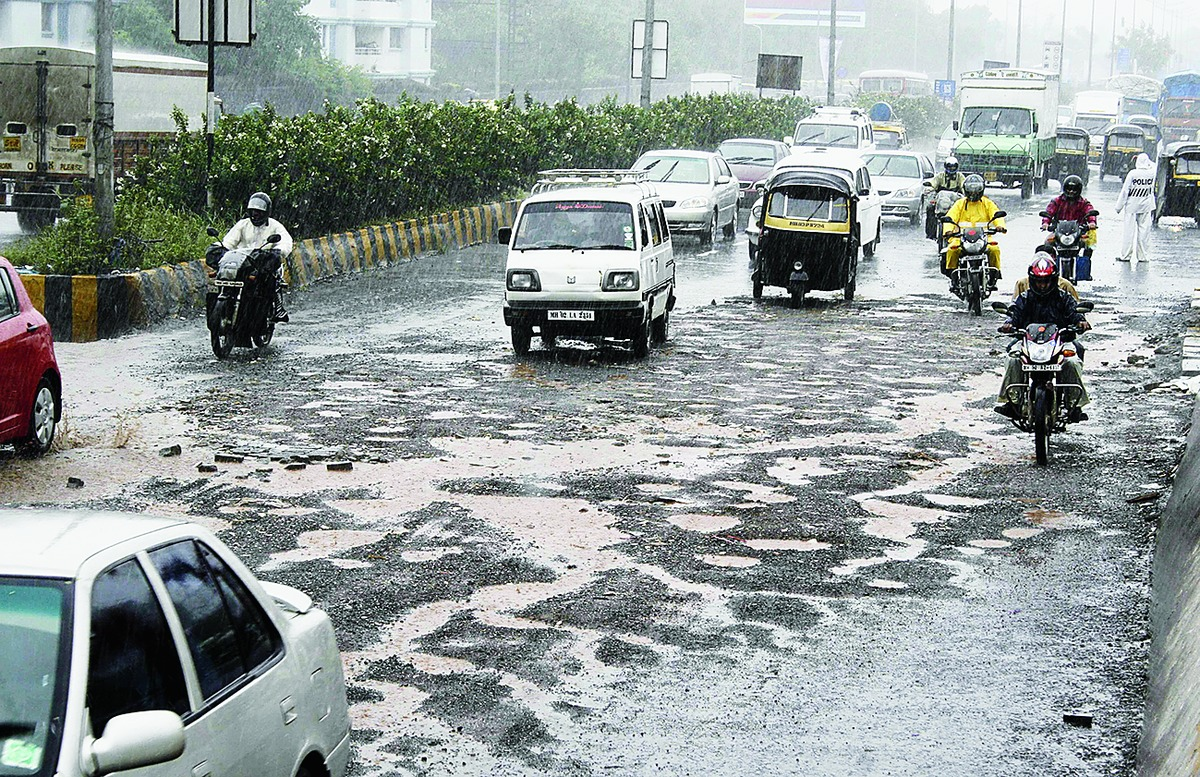pothole: (246, 418, 991, 624)
